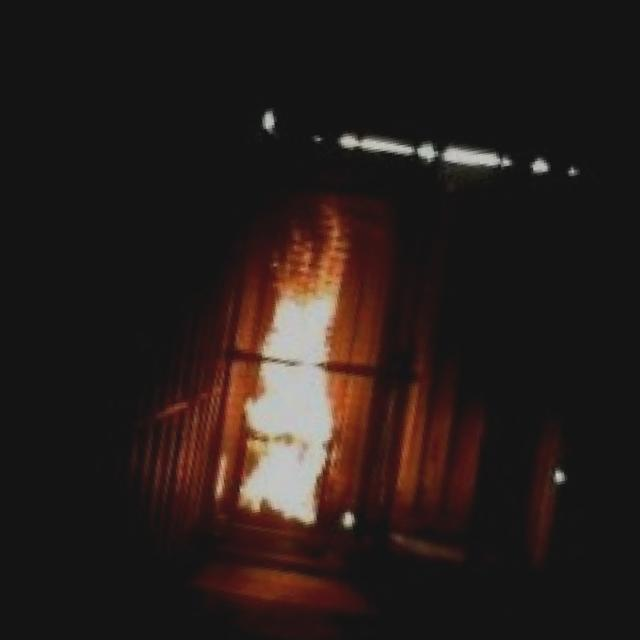fire: (189, 212, 424, 554)
